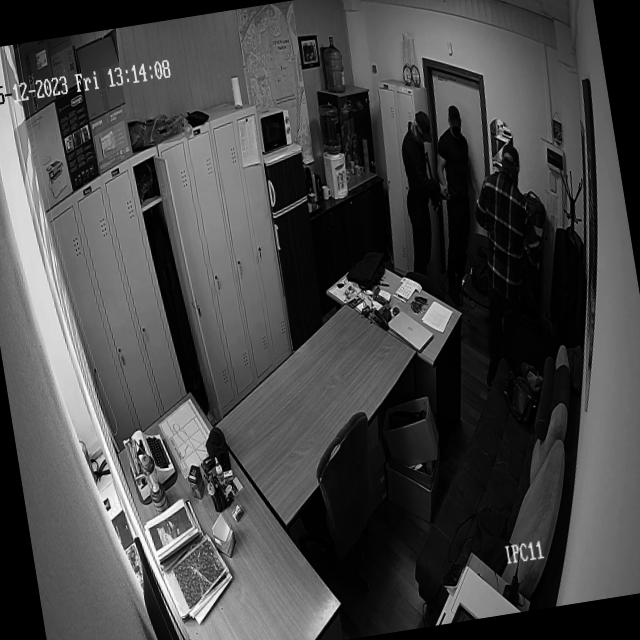gun: (422, 152, 447, 236)
person: (470, 147, 550, 371), (430, 104, 488, 278)
person with a gun: (392, 111, 448, 272)
